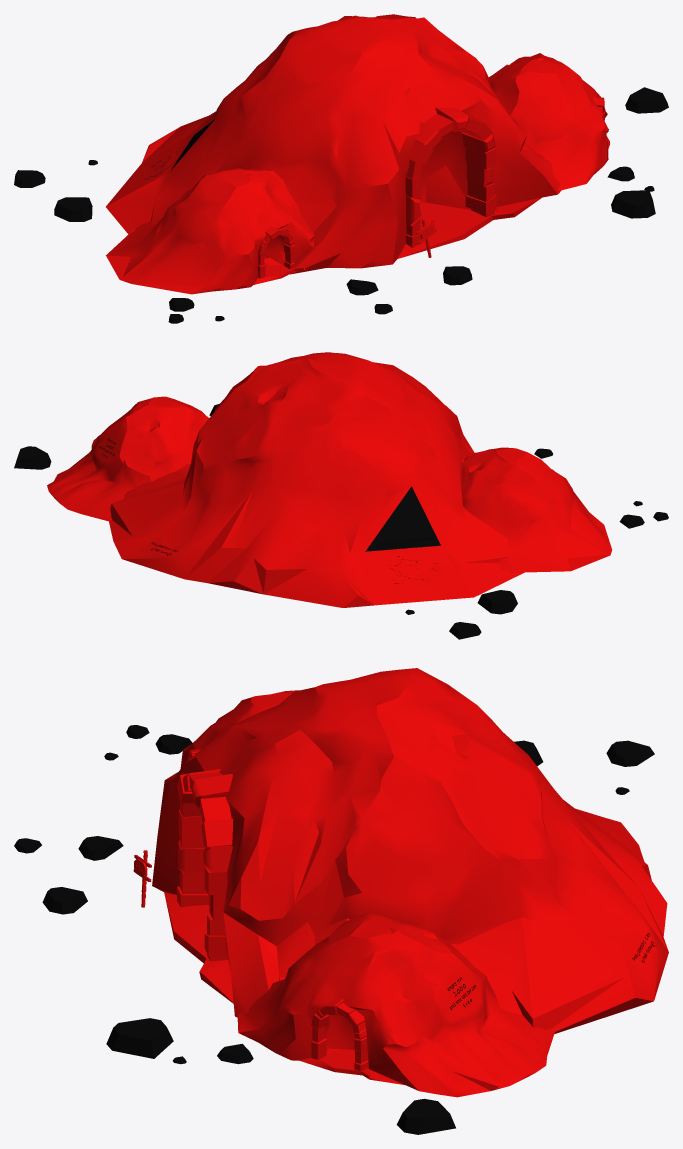
The model's file is Individual_Lobby_02.glb.
3 views of the same model, one above another, from view 1: azimuth 30°, elevation 25°; view 2: azimuth 150°, elevation 25°; view 3: azimuth 270°, elevation 25° (orthographic). The views are drawn at different scales.
Parts seen in each view (by area): view 1: polySurface352, pCube547, pCylinder160, polySurface323; view 2: polySurface352, pCube547, pasted__pCube550; view 3: polySurface352, pCylinder160, pCube547, polySurface323_node.
Part boxes in pixels (x1=…): polySurface352: x1=106, y1=14, x2=668, y2=314; pCube547: x1=14, y1=160, x2=315, y2=323; pCylinder160: x1=405, y1=107, x2=496, y2=247; polySurface323: x1=258, y1=226, x2=295, y2=278; polySurface352: x1=14, y1=352, x2=552, y2=607; pCube547: x1=405, y1=447, x2=668, y2=639; pasted__pCube550: x1=389, y1=544, x2=438, y2=583; polySurface352: x1=14, y1=668, x2=668, y2=1134; pCylinder160: x1=177, y1=769, x2=233, y2=961; pCube547: x1=104, y1=690, x2=654, y2=794; polySurface323_node: x1=311, y1=999, x2=368, y2=1070.
Bounding box in the file's own units: 24.4 × 6.51 × 16.83.
